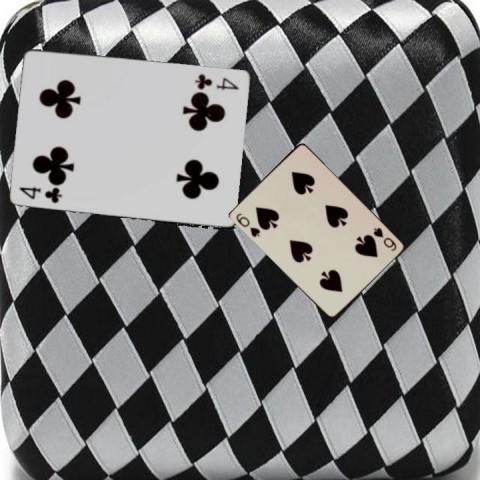4c: (17, 183, 63, 205), (192, 71, 240, 91)
6s: (233, 210, 261, 239), (370, 224, 398, 252)
